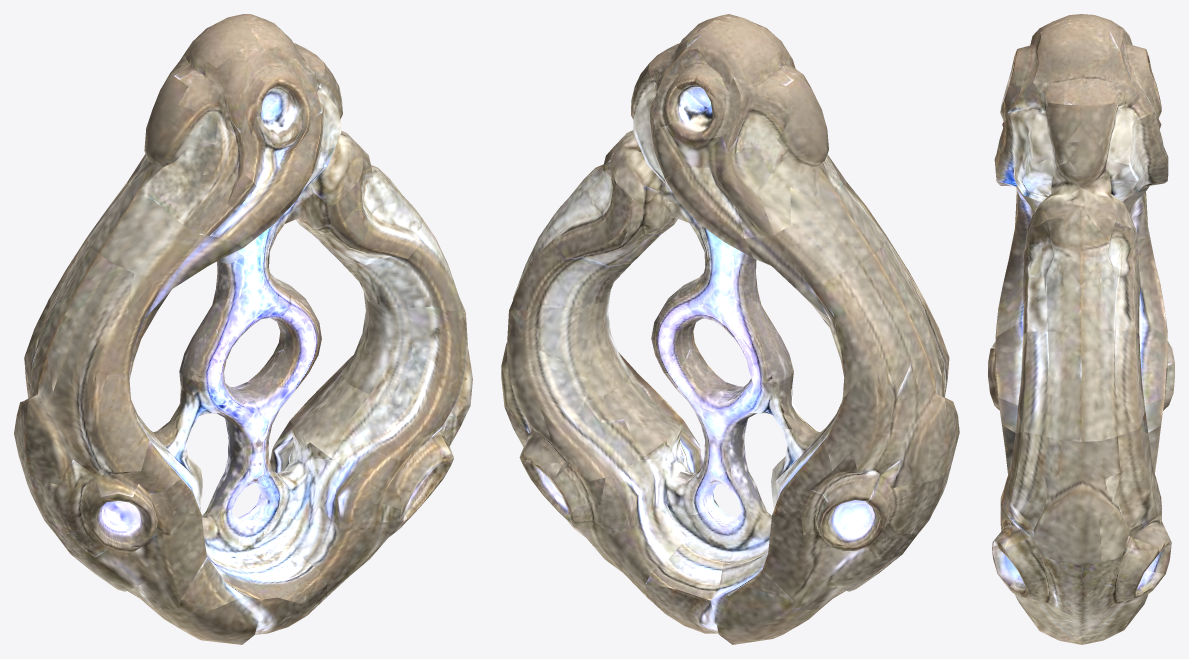
File: small_glyph_06.glb
3 views of the same model, side by side, from view 1: azimuth 30°, elevation 25°; view 2: azimuth 150°, elevation 25°; view 3: azimuth 270°, elevation 25° (orthographic).
Parts seen in each view (by area): view 1: mesh_node; view 2: mesh_node; view 3: mesh_node.
Part boxes in pixels (x1,y1,x2,y2): mesh_node: [14, 14, 472, 644]; mesh_node: [501, 14, 959, 644]; mesh_node: [988, 14, 1174, 644].
Size of the model in its own units: 0.752 by 1 by 0.2773.
Materials: 1 (1 with a texture image).
